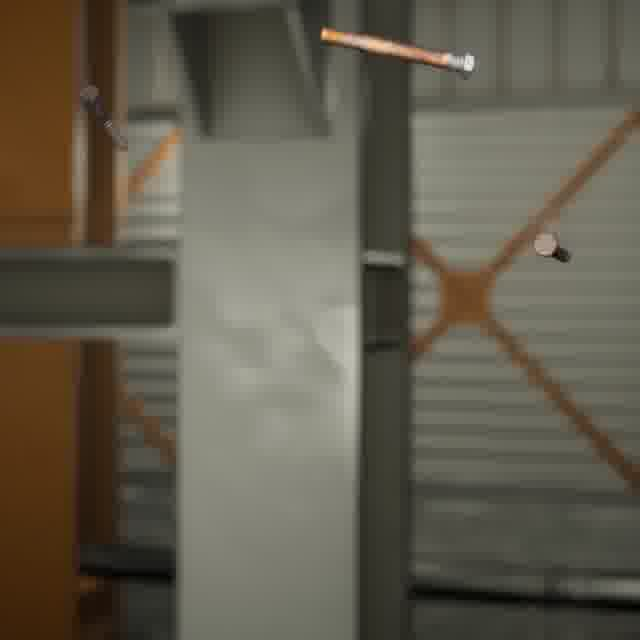bolt: (315, 22, 479, 84), (73, 80, 132, 156), (527, 227, 575, 266)
